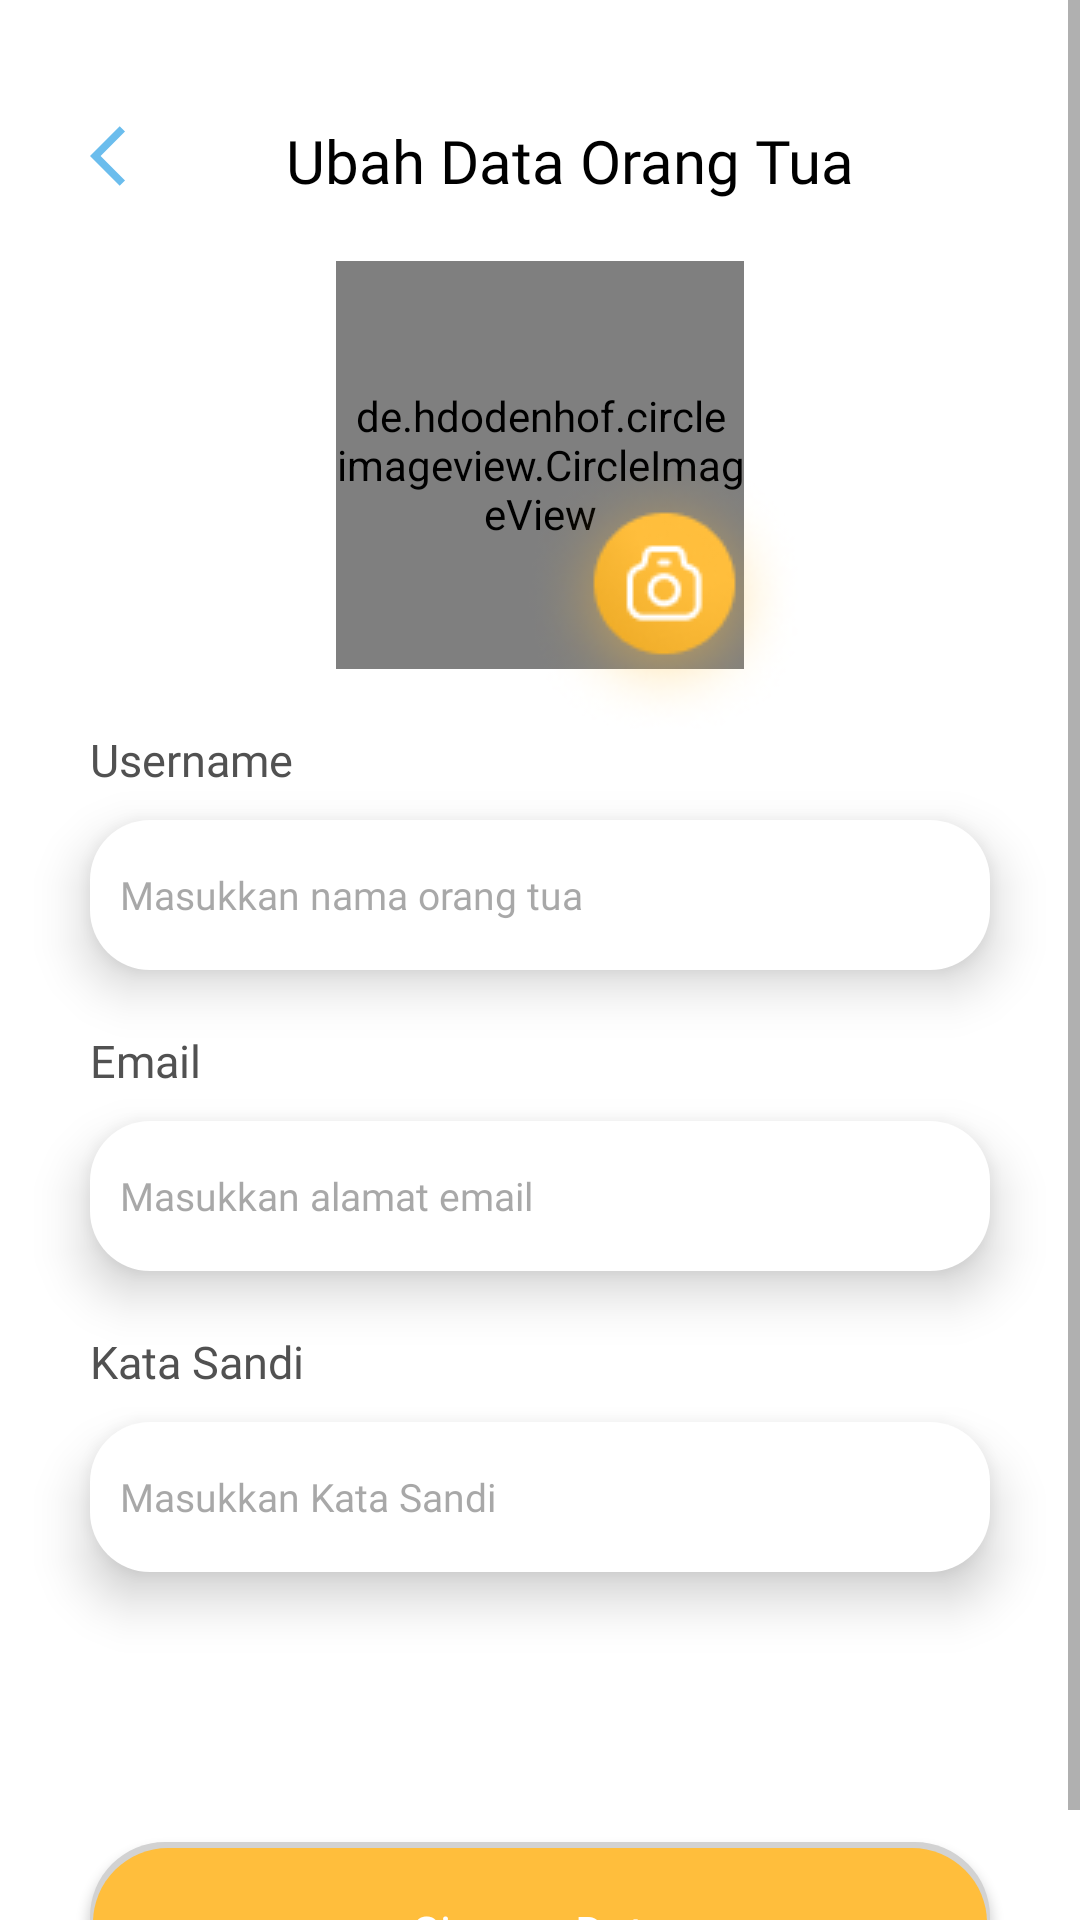

Named icons in this screenshot (1080px x 1920px) and their bounding boxes, {"left": x1, "top": y1, "right": x2, "bottom": y2}:
arrowback: {"left": 90, "top": 126, "right": 125, "bottom": 186}
